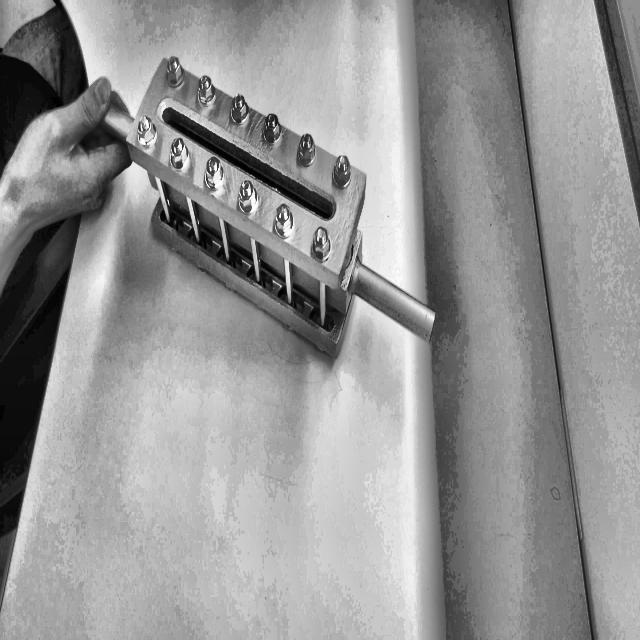ShuiWeiQi_12: (104, 18, 446, 395)
